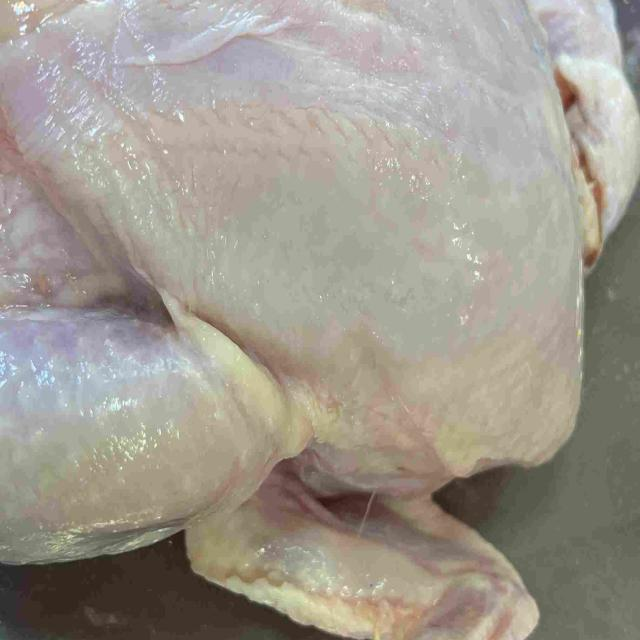breast: (0, 0, 578, 468)
leg: (0, 314, 307, 566)
wing: (184, 484, 545, 640)
